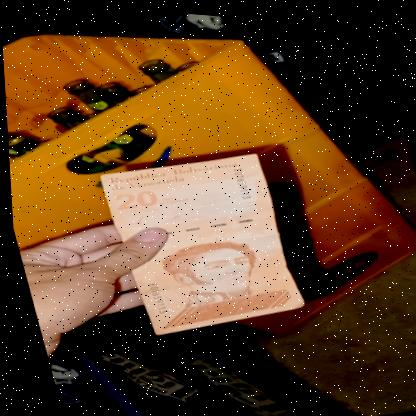twenty-front-vef: (94, 136, 305, 345)
